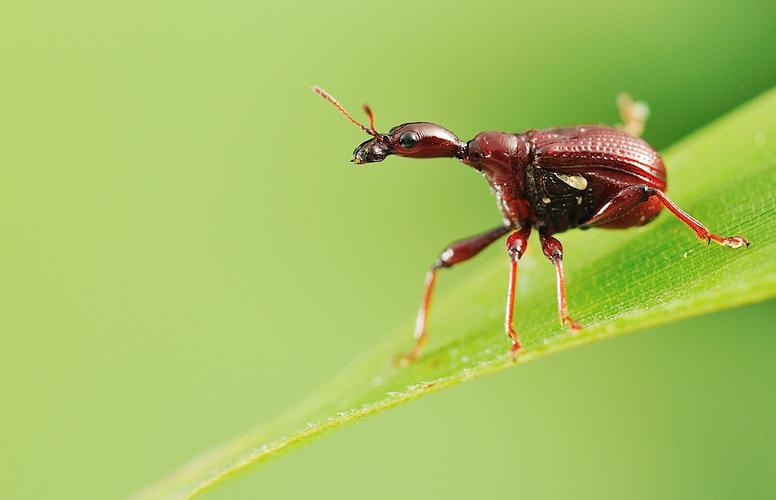Curculionidae: (310, 84, 750, 370)
